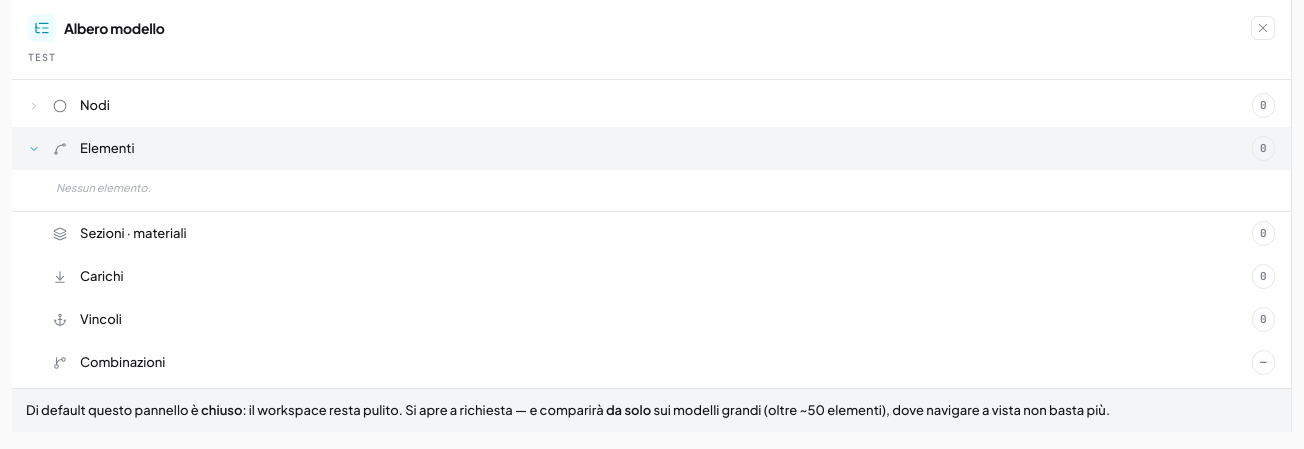
Test case: ShellLeftTreePanel › E2.3 espansione foglie + selezione bidirezionale › empty state foglie: 'Nessun nodo' quando model.nodes vuoto
Click the button with test id "shell-left-tree-nodes-head": coordinates (34, 106) [12, 84, 1291, 127]
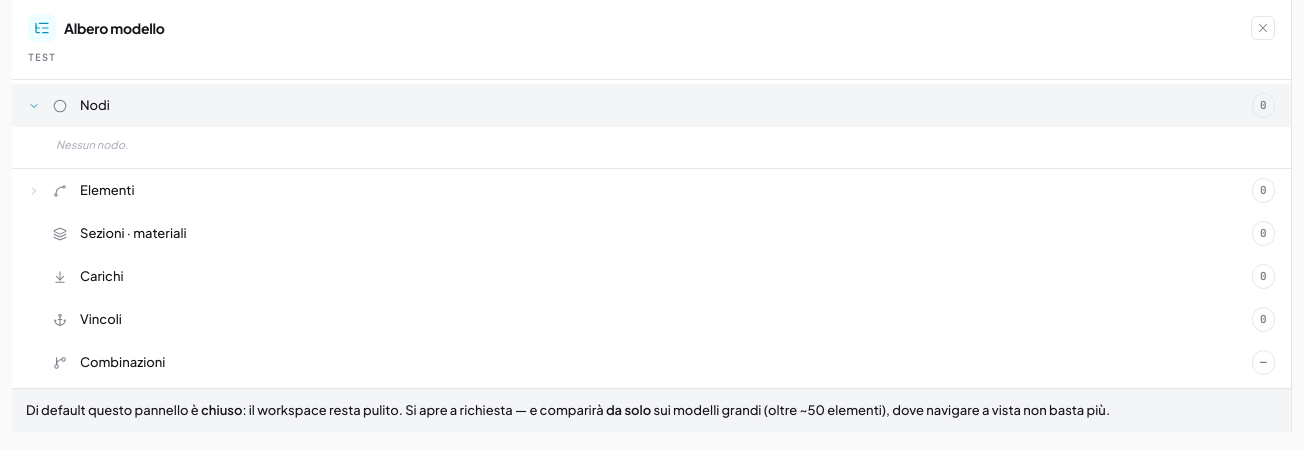
Expected: the list with test id "shell-left-tree-nodes-leaves" shows "Nessun nodo", [56, 138, 128, 151]
